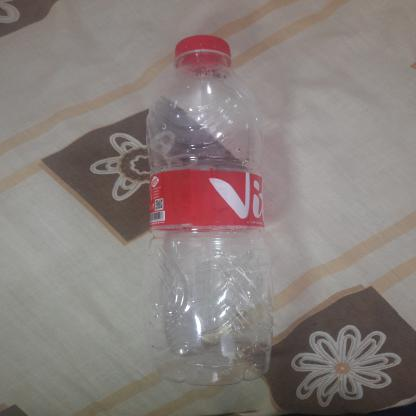bottle: (136, 30, 274, 387)
